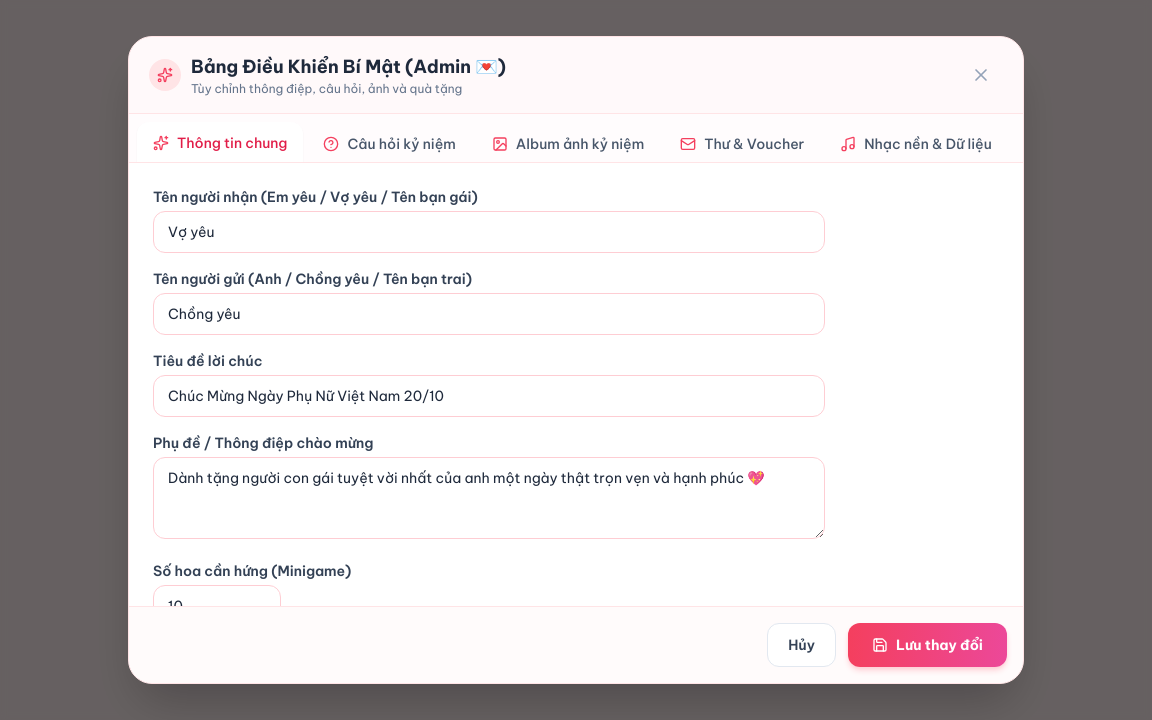
Test: AdminModal Component › Tab 3: Photo Album & Upload via compressImage › displays photos, allows deleting a photo and uploading a compressed photo
Click the tab "Album ảnh kỷ niệm" at {"x": 568, "y": 144}, box x1=476 y1=122 x2=660 y2=166
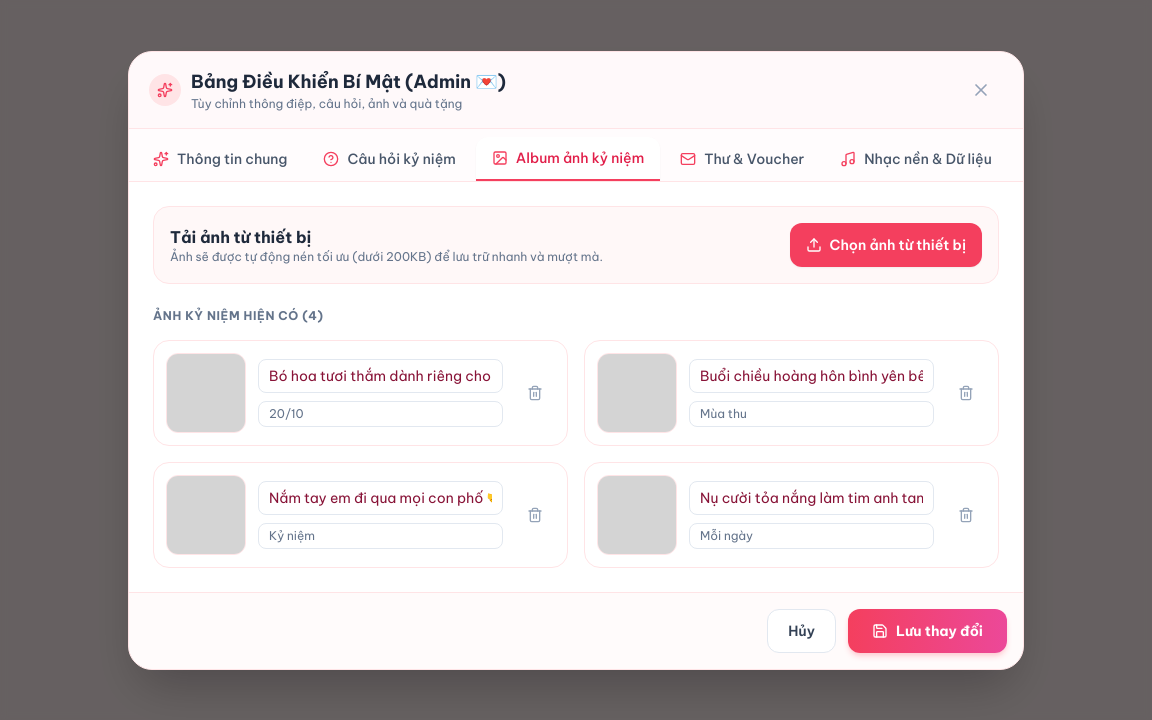
Expected: the number of elements with test id "admin-photo-item" is 4, x1=153 y1=340 x2=568 y2=446; x1=584 y1=340 x2=999 y2=446; x1=153 y1=462 x2=568 y2=568; x1=584 y1=462 x2=999 y2=568
Click the button with test id "delete-photo-btn" at {"x": 535, "y": 392}, box x1=515 y1=372 x2=555 y2=412
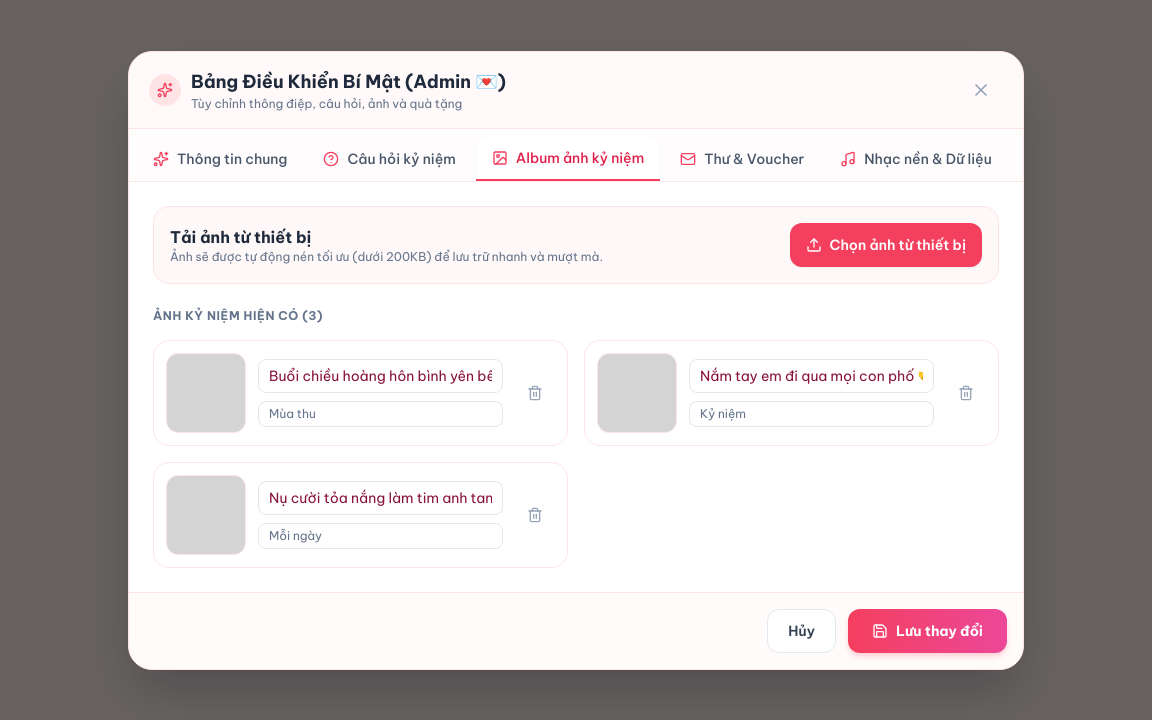
Expected: the number of elements with test id "admin-photo-item" is 3, x1=153 y1=340 x2=568 y2=446; x1=584 y1=340 x2=999 y2=446; x1=153 y1=462 x2=568 y2=568
